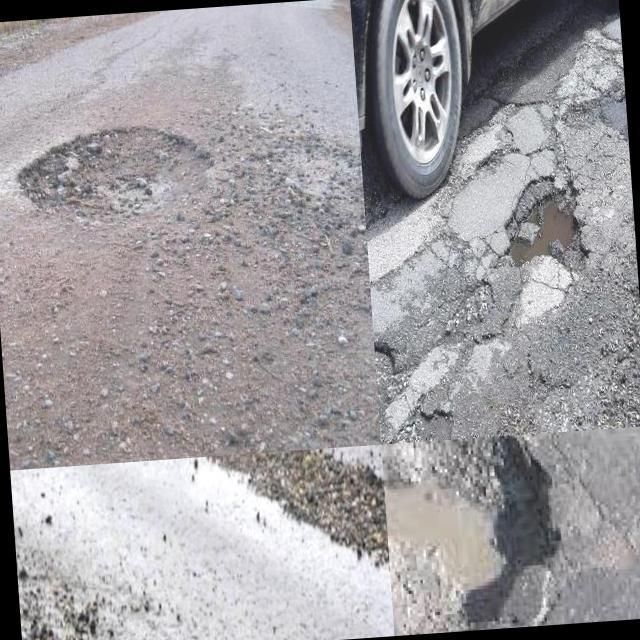Pothole: (382, 435, 558, 635), (16, 122, 215, 226), (505, 175, 586, 267), (562, 74, 628, 140)
